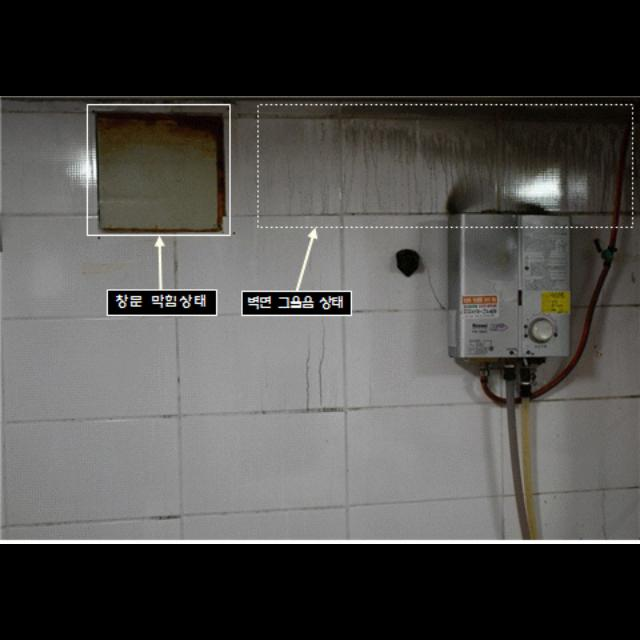Boiler: (436, 192, 584, 374)
